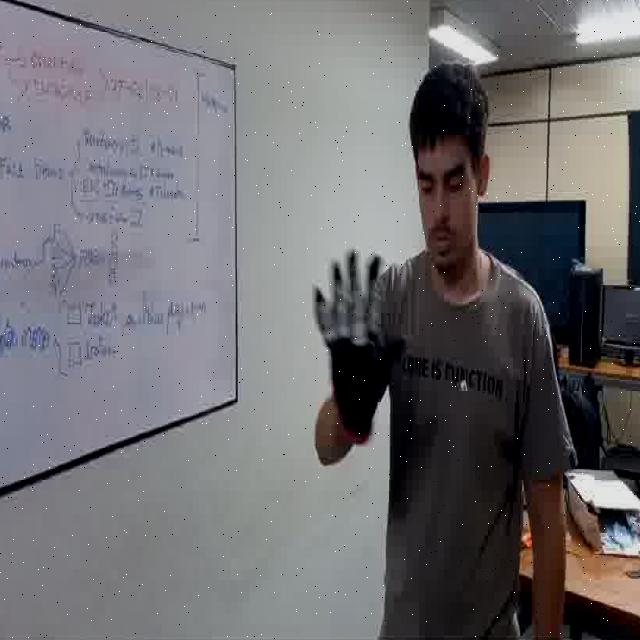Gloves: (314, 248, 408, 446)
